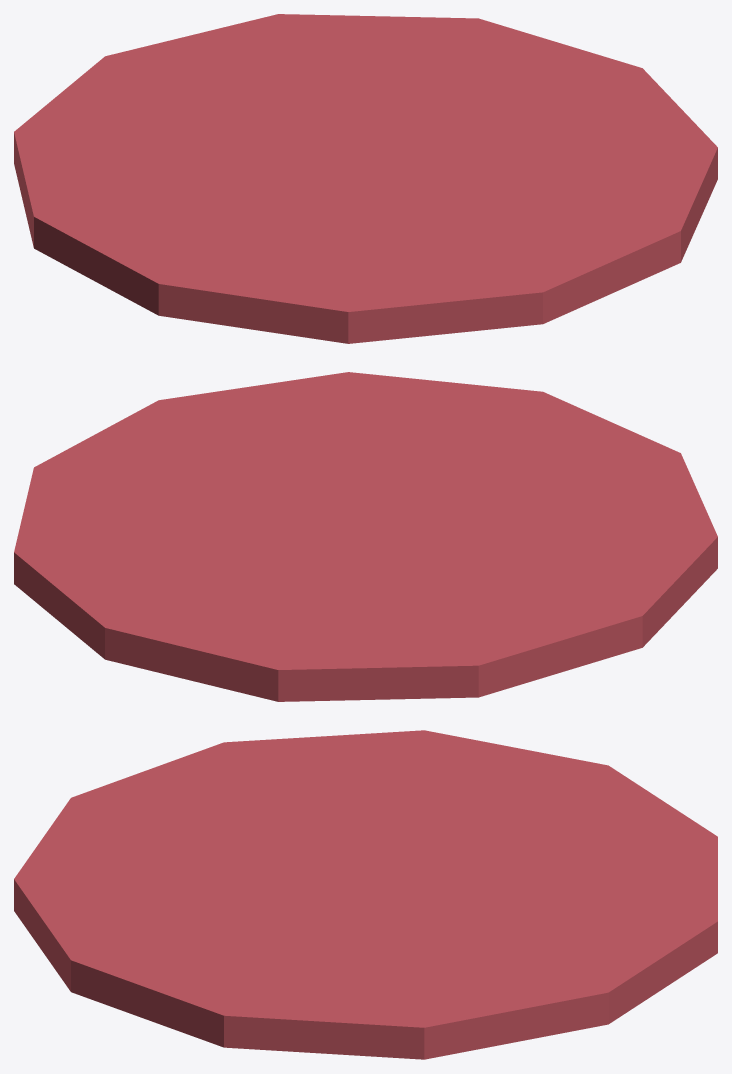
The model's file is card1.fbx.
The picture shows the model from 3 angles, top to bottom: view 1: azimuth 30°, elevation 25°; view 2: azimuth 150°, elevation 25°; view 3: azimuth 270°, elevation 25°; orthographic projection.
Parts seen in each view (by area): view 1: obj_0; view 2: obj_0; view 3: obj_0.
Part boxes in pixels (box(x1,y1,x2,y2)): obj_0: box(14, 14, 717, 343); obj_0: box(14, 372, 717, 701); obj_0: box(14, 730, 717, 1059).
Size of the model in its own units: 2000 by 100 by 2000.
